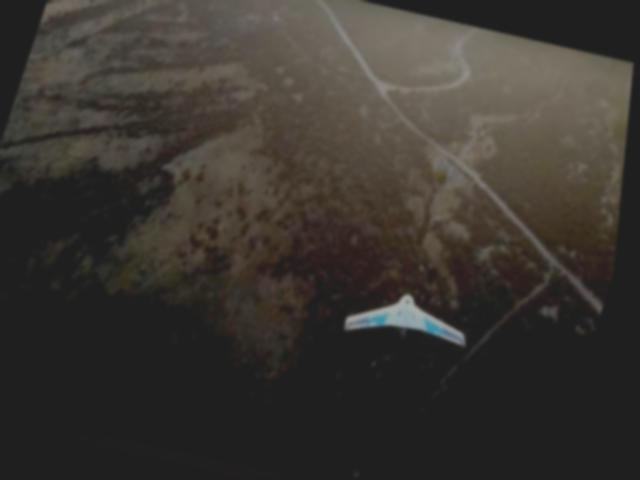iha: (341, 274, 488, 358)
